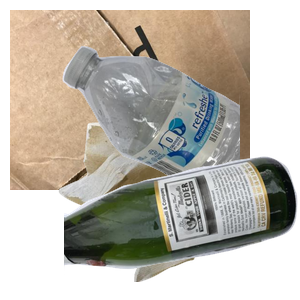cardboard: (10, 10, 250, 190)
glass: (64, 154, 300, 300)
plastic: (60, 44, 300, 224)
trash: (56, 120, 247, 300)
